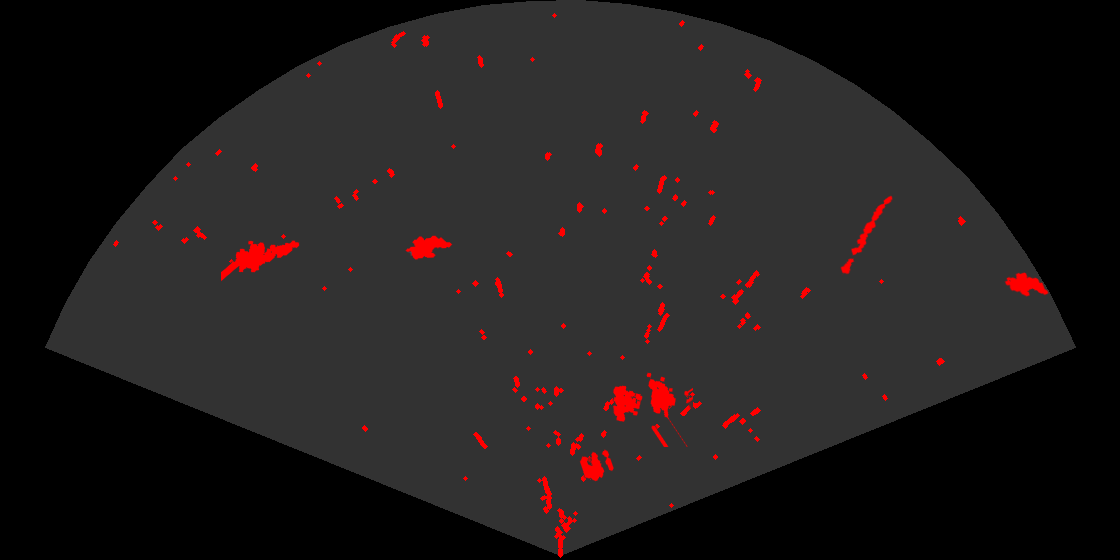AUV: (404, 234, 454, 261), (1003, 271, 1050, 298)
ball: (578, 448, 615, 483)
cage: (611, 371, 693, 447)
chain: (839, 194, 894, 277)
frogman: (221, 239, 301, 283)
